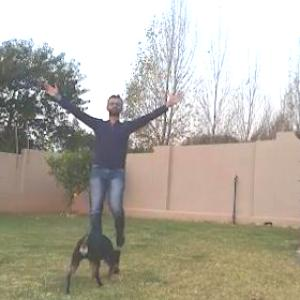takeoff: (34, 63, 188, 253)
